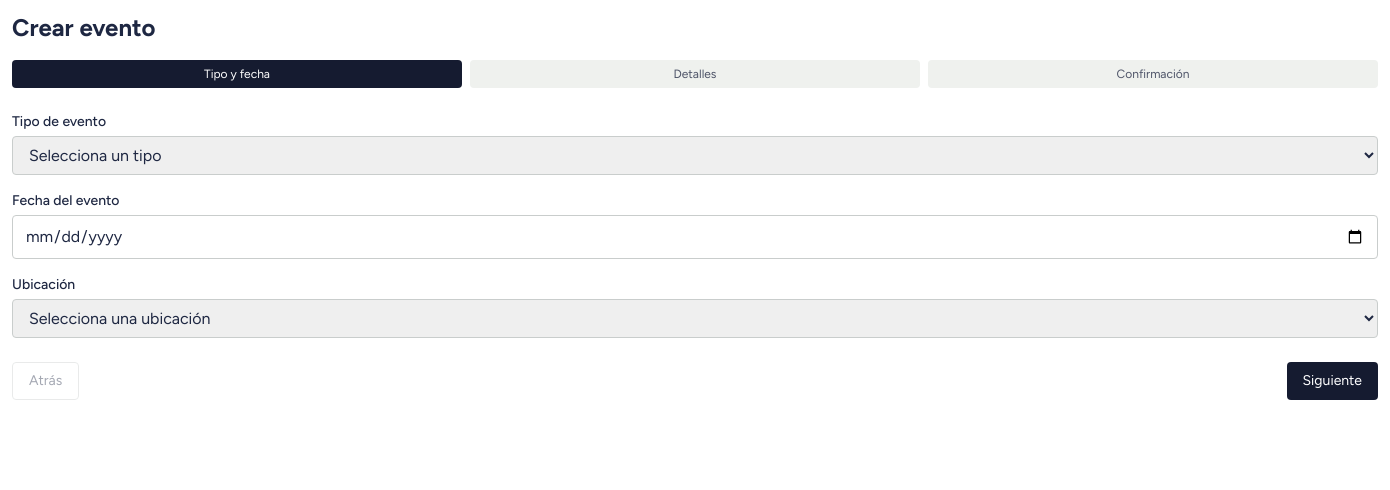
Test: US-009 — asistente de creación › valida el paso 1 antes de avanzar
Check: the heading "Crear evento" is shown, box [12,13,155,42]
Click the button "Siguiente".
click(1332, 381)  # box [1286,362,1378,400]
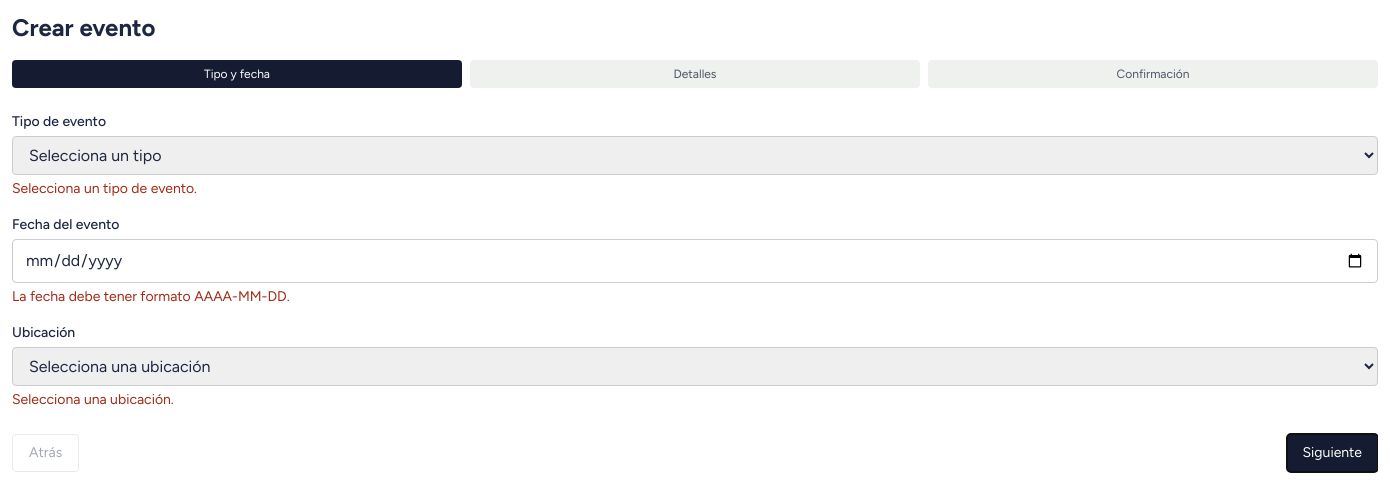
Check: the text "Selecciona un tipo de evento." is shown, box [12,180,197,197]
